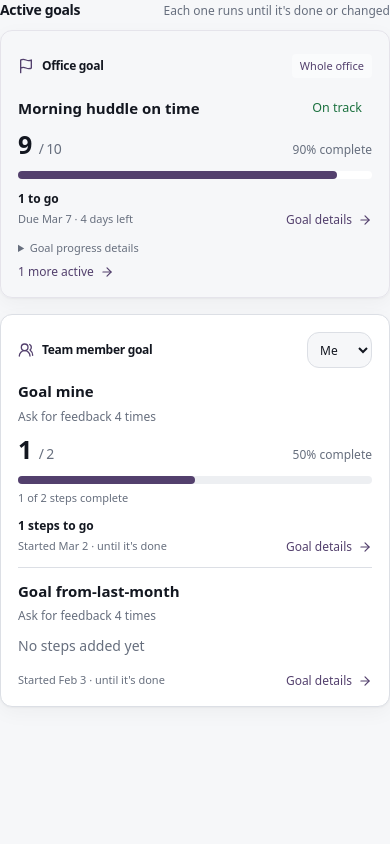
Test: selecting a team member › changes only the personal goal and leaves the office goal in place
Expected: the heading "Goal mine" is shown, [18,380,94,402]
Select "Alice" in the dropdown named "Team member" at (340, 350), box [307,332,372,368]
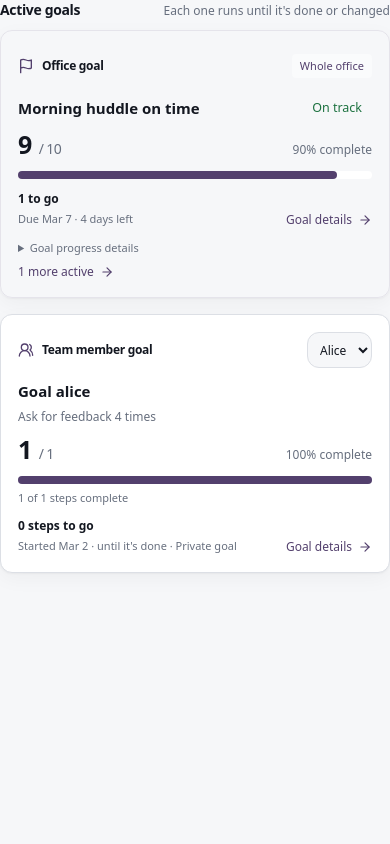
Expected: the heading "Goal alice" is shown, [18,380,90,402]
Expected: the heading "Goal mine" is gone
Expected: the text "1 of 1 steps complete" is shown, [18,490,128,504]
Select "Bob" in the dropdown at (340, 350), box [307,332,372,368]
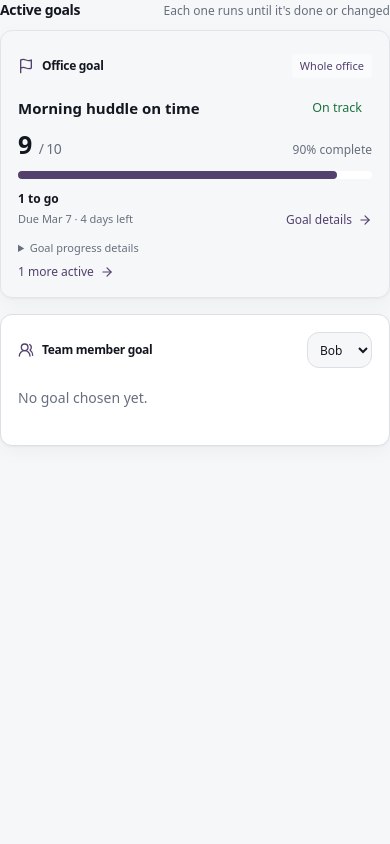
Expected: the text "No goal chosen yet." is shown, [18,388,148,407]
